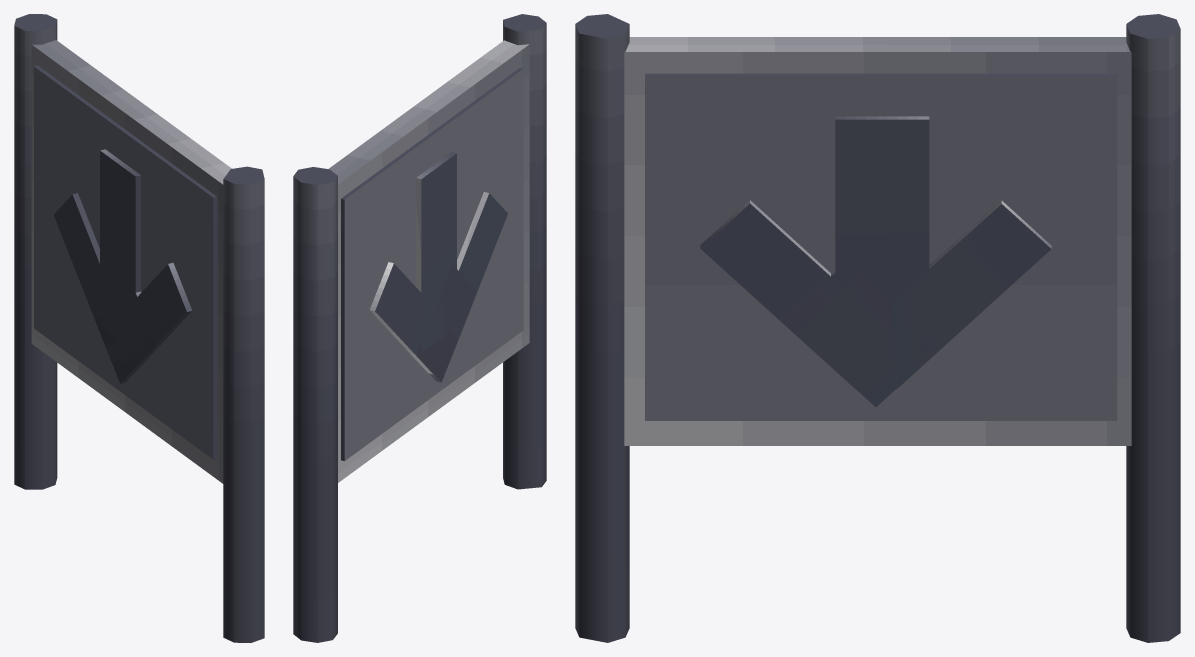
File: greenbarrier1.fbx
The picture shows the model from 3 angles, left to right: view 1: azimuth 30°, elevation 25°; view 2: azimuth 150°, elevation 25°; view 3: azimuth 270°, elevation 25°; orthographic projection. The views are drawn at different scales.
Parts seen in each view (by area): view 1: Cube.003; view 2: Cube.003; view 3: Cube.003.
Boxes of the visible parts, bbox=[...] form: Cube.003: bbox=[14, 14, 264, 642]; Cube.003: bbox=[293, 14, 546, 642]; Cube.003: bbox=[575, 14, 1180, 642].
Bounding box in the file's own units: 54.02 × 567 × 515.
